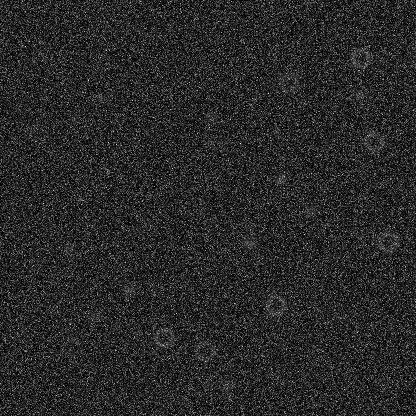Ring: (152, 325, 176, 349), (357, 227, 381, 251), (312, 302, 336, 326), (361, 129, 385, 153), (263, 292, 287, 316), (276, 70, 300, 94), (376, 229, 400, 253), (192, 338, 216, 362), (348, 46, 372, 70), (59, 335, 83, 359)
Spot: (91, 90, 107, 106), (248, 248, 264, 264), (219, 377, 235, 393), (202, 110, 218, 126), (271, 170, 287, 186), (131, 221, 147, 237), (28, 121, 44, 137), (47, 266, 63, 282), (15, 321, 31, 337), (201, 374, 217, 390), (85, 308, 101, 324), (60, 240, 76, 256), (122, 281, 138, 297), (331, 23, 347, 39), (351, 87, 367, 103), (295, 92, 311, 108), (202, 135, 218, 151), (239, 235, 255, 251), (303, 201, 319, 217)
